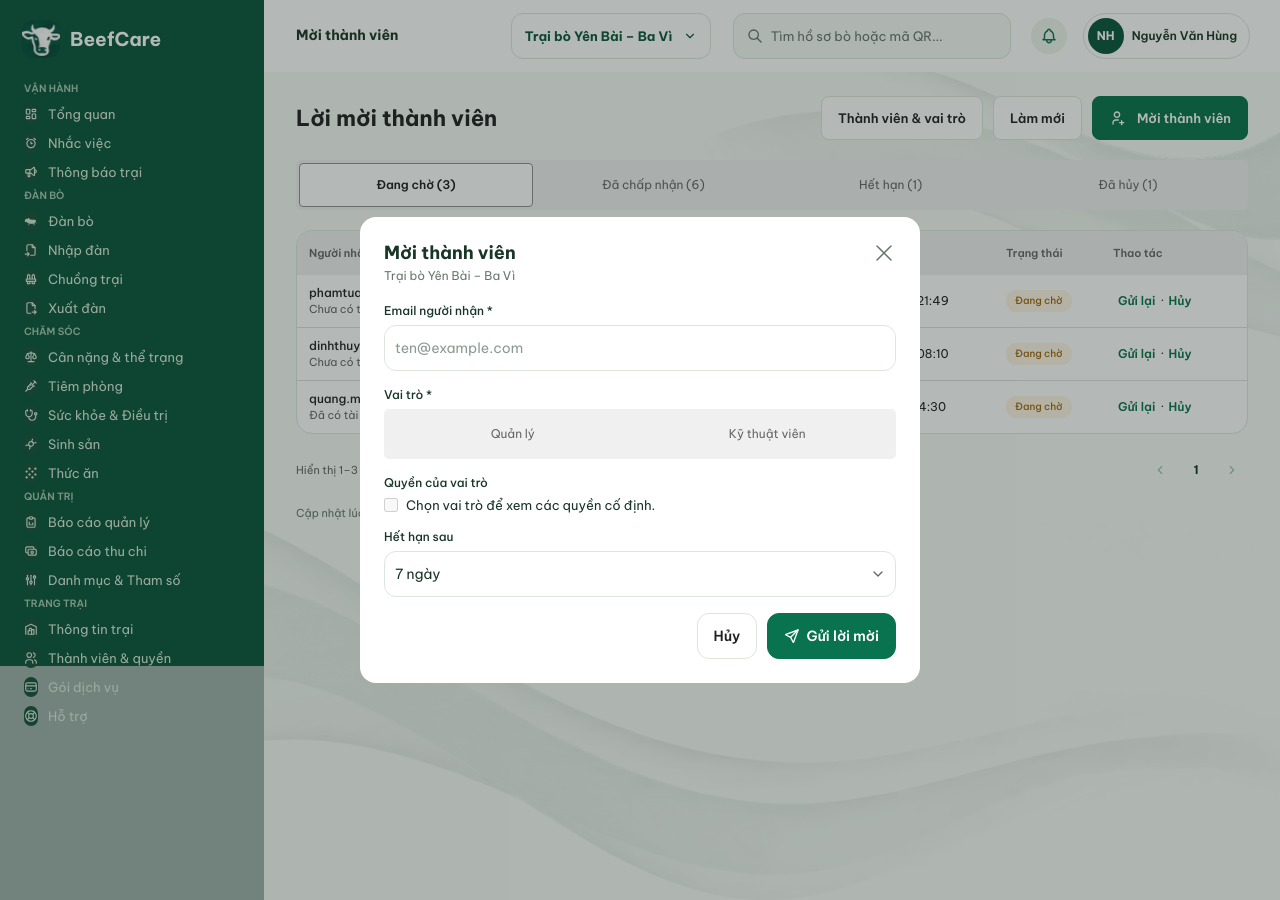
Test case: Farm Invitations › rejects an email that already has a pending invitation
Type "quang.manager@gmail.com" into the field labelled "Email người nhận *". click: (640, 348)
box: [384,325,896,371]
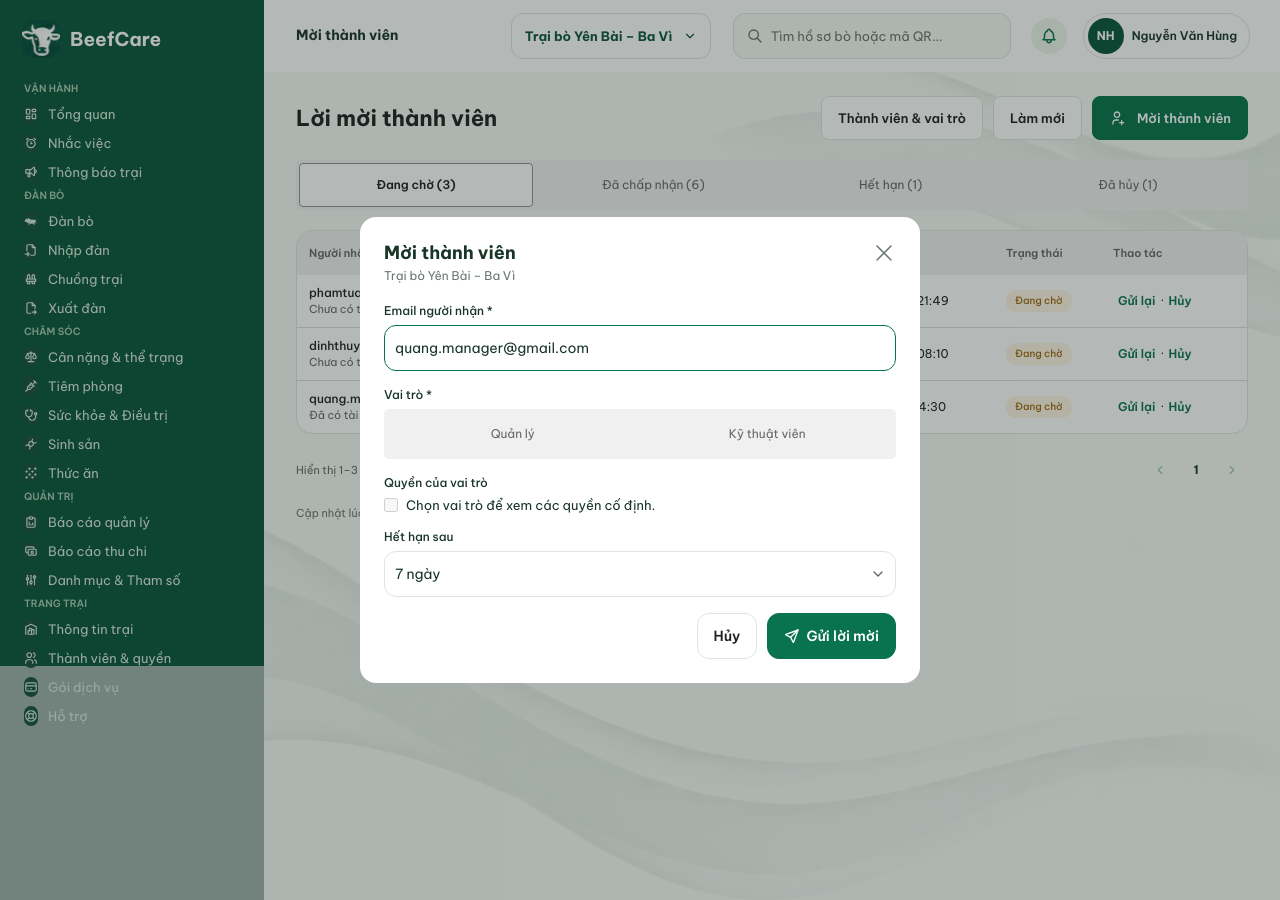
Click the button "Quản lý". click: (513, 434)
box: [387,412,638,456]
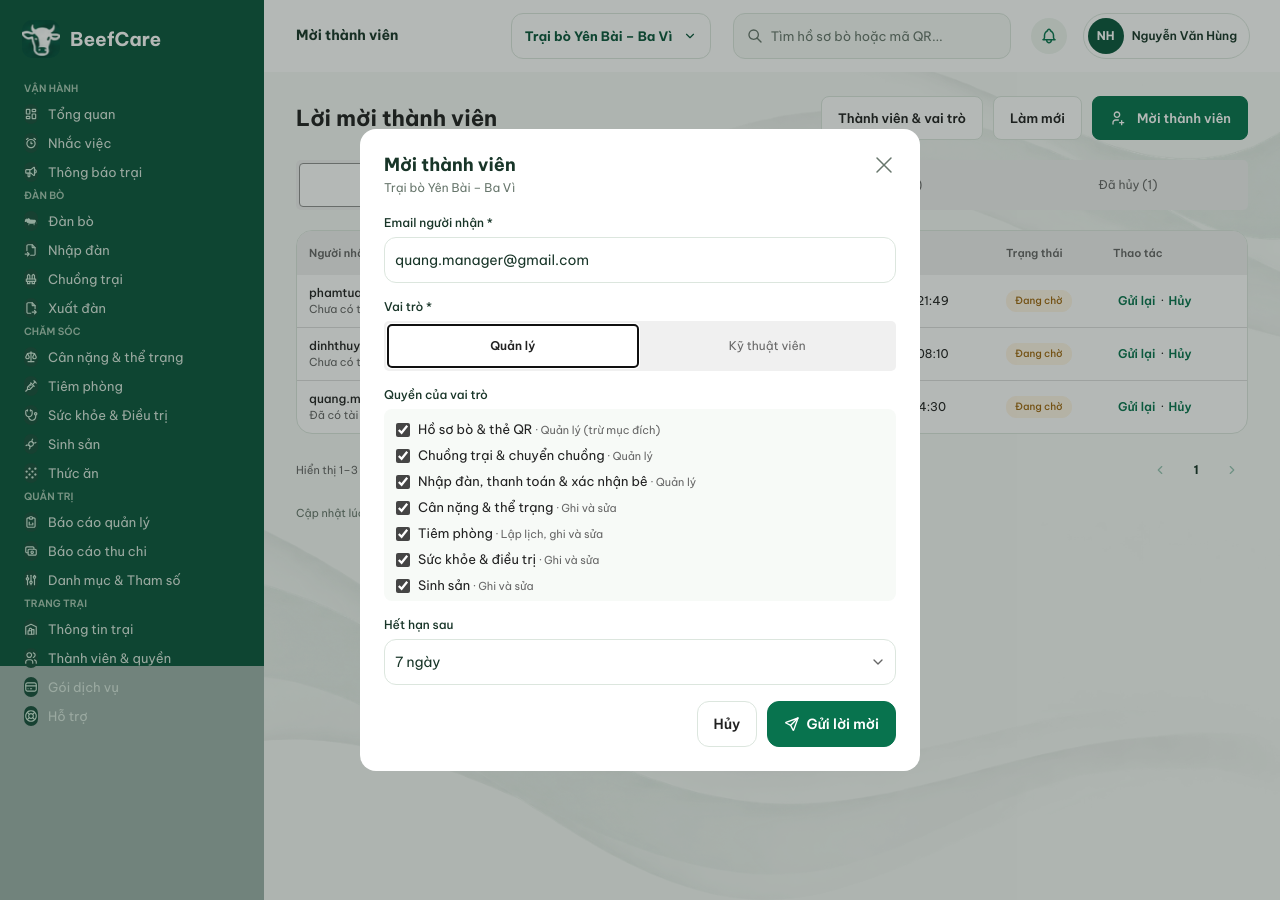
Click the button "Gửi lời mời". click: (832, 724)
box: [767,701,896,747]
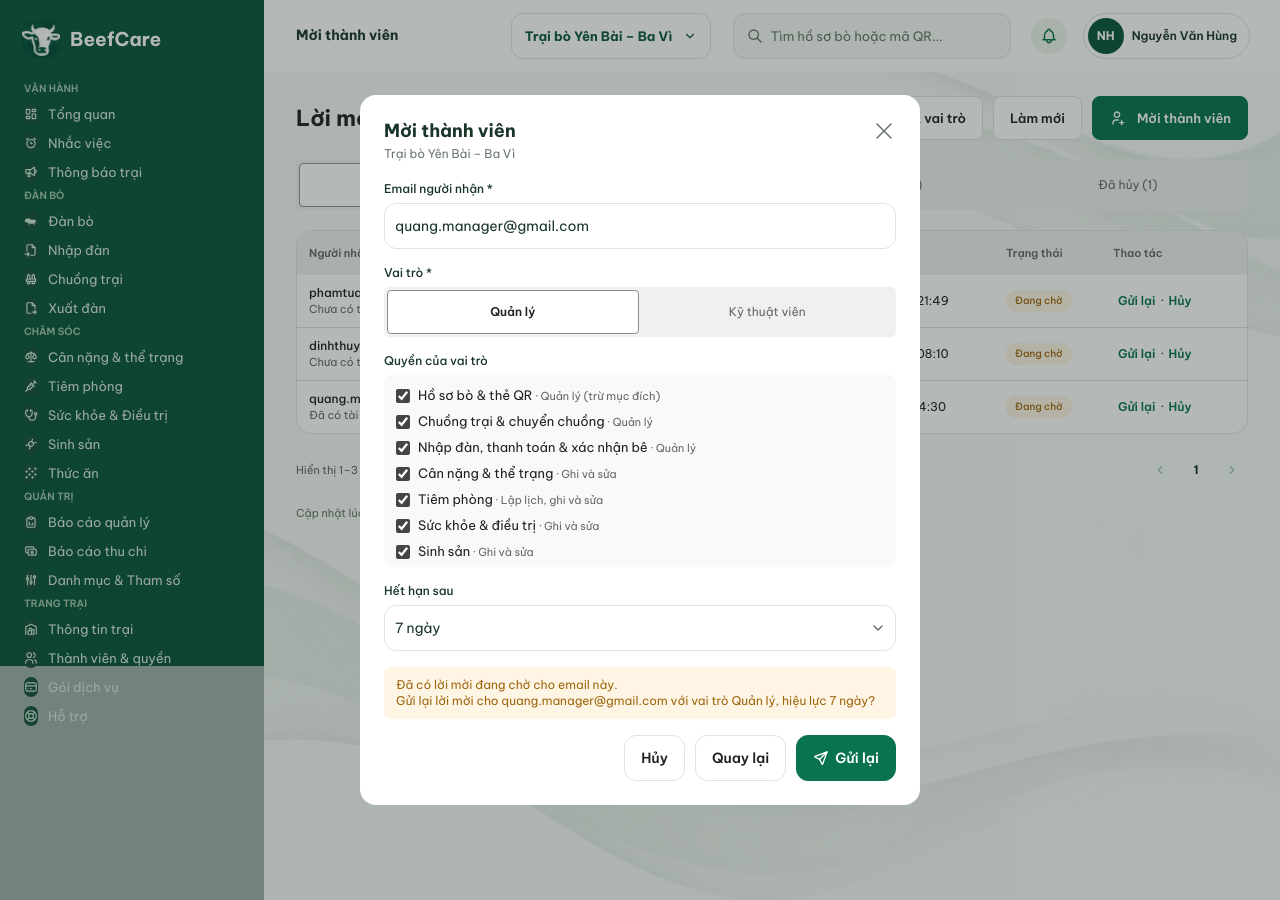
Check: the text "Đã có lời mời đang chờ cho email này." is shown, box [396,677,618,692]
